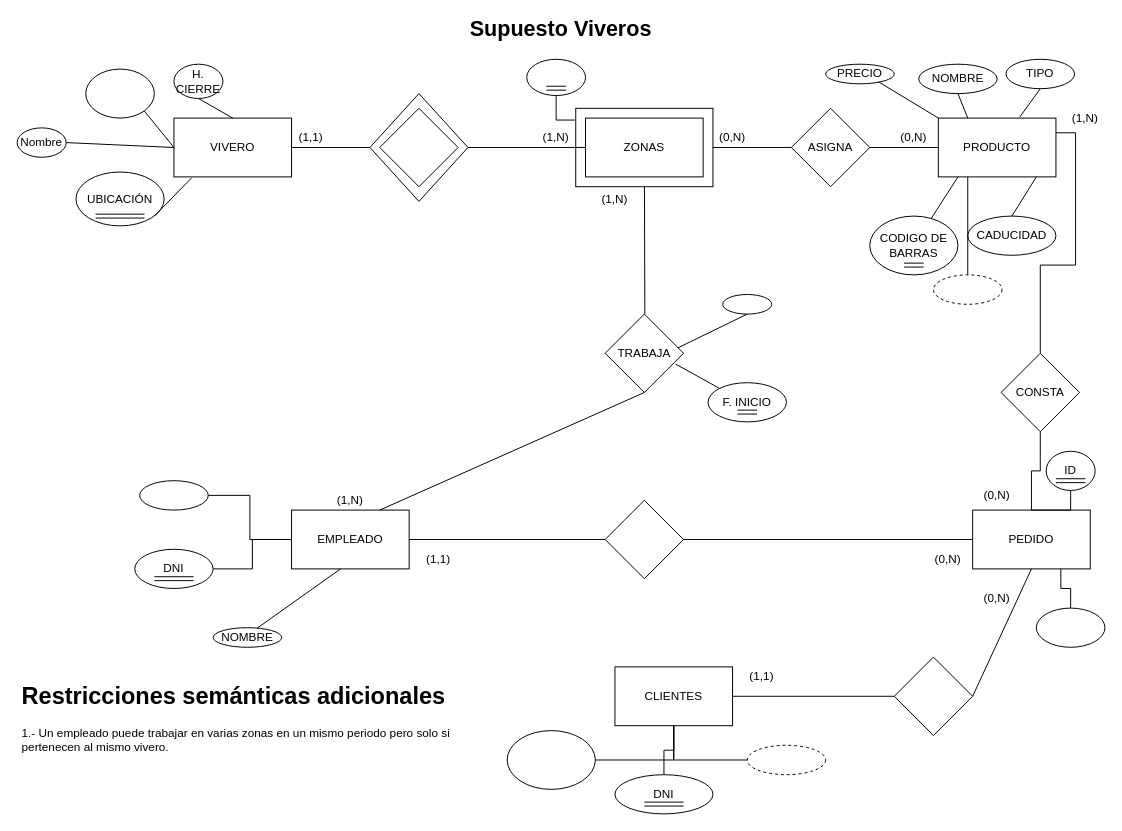
This 1122x831 diagram has some shape labels left out. The centre of each missing label's shape, as x and y in pixels:
"CODIGO FIDELIZACION" belongs at pixel 550 759.
"CSS" belongs at pixel 173 495.
"F. FIN" belongs at pixel 747 304.
"FECHA" belongs at pixel 1070 627.
"GASTO MENSUAL" belongs at pixel 786 759.
"H. APERTURA" belongs at pixel 119 93.
"Nº ZONA" belongs at pixel 556 77.
"PERTENECE" belongs at pixel 418 147.
"REALIZA" belongs at pixel 933 695.
"STOCK" belongs at pixel 967 289.
"SUPERVISA" belongs at pixel 644 539.
